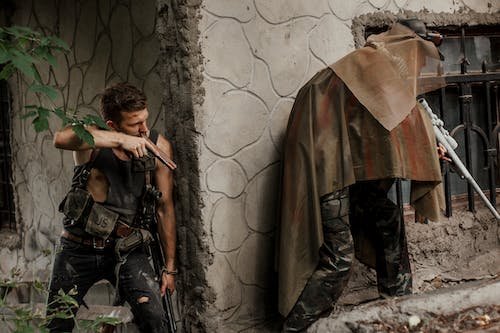gun: (416, 97, 500, 222), (140, 183, 179, 333), (124, 133, 180, 172)
